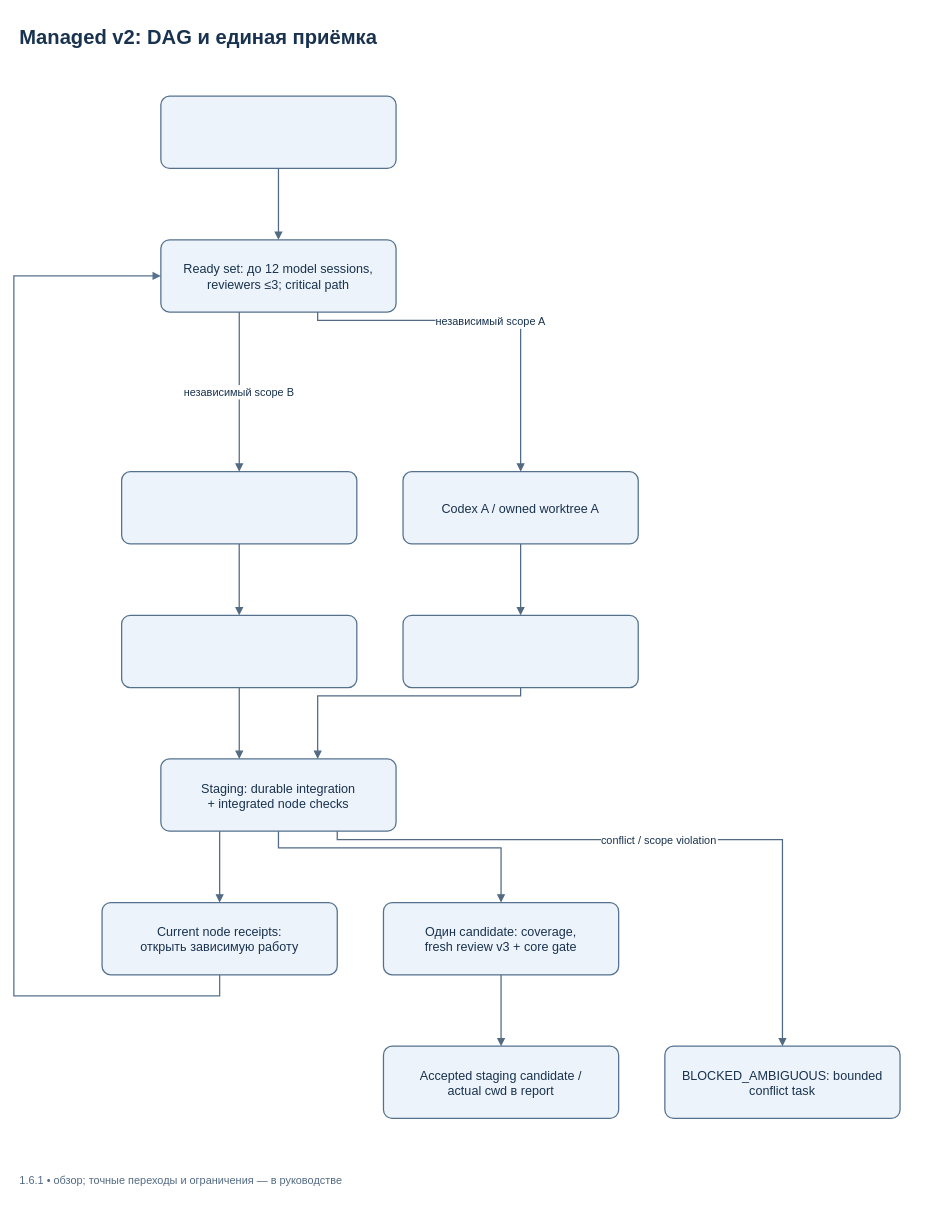
This 952x1208 diagram has some shape labels left out. The centre of each missing label's shape, as x and y in pixels:
"Codex B / owned worktree B" belongs at [239,507].
"Plan v2: schema / semantic validation + quality gate" belongs at [278,132].
"Worker A: local acceptance, patch + session / receipts" belongs at [520,651].
"Worker B: local acceptance, patch + session / receipts" belongs at [239,651].
